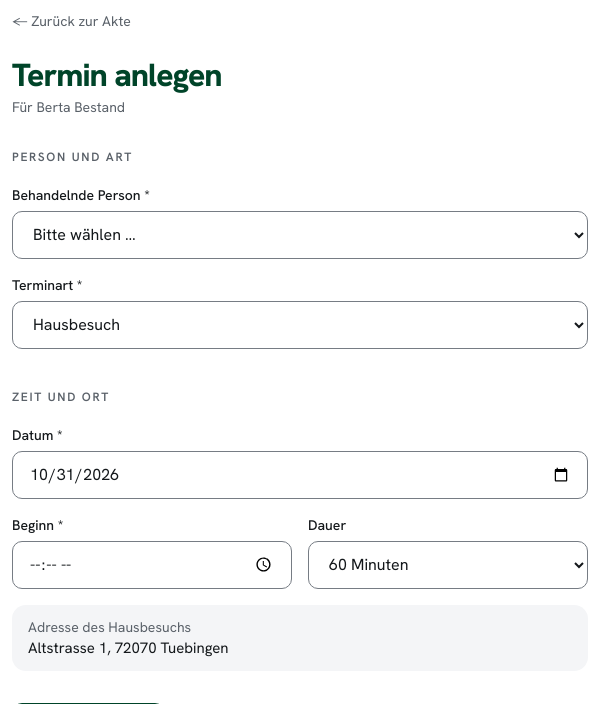
it: NewAppointmentPage › bietet 60 und 45 Minuten an und zieht das Ende mit (CAL-015b)
Type "10:15" into the time field labelled "Beginn *" at (152, 565), box [12,541,292,589]
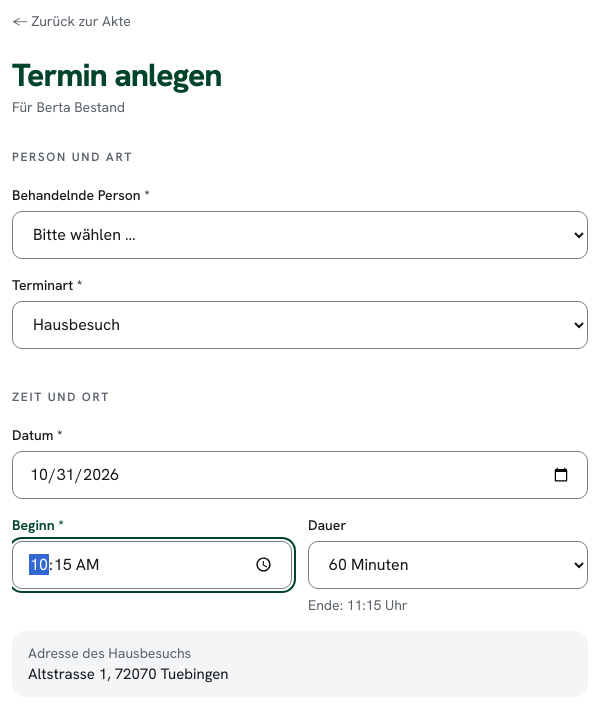
Select "45 Minuten" in the dropdown labelled "Dauer" at (448, 565), box [308,541,588,589]
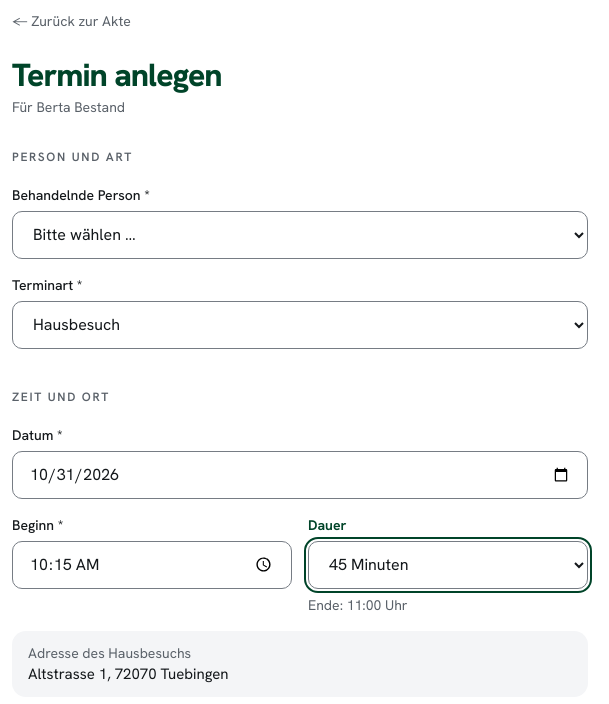
Expected: the text "Ende: 11:00 Uhr" is shown, [308,596,408,614]
